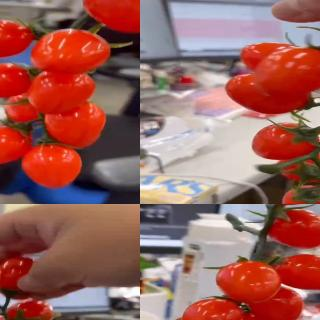tomato: (226, 74, 316, 117), (31, 28, 113, 75), (252, 46, 320, 97), (45, 100, 107, 150), (28, 69, 96, 114), (20, 141, 82, 189), (216, 261, 282, 305), (250, 122, 320, 160), (265, 209, 320, 252), (239, 41, 303, 72), (82, 0, 140, 34), (249, 285, 305, 320), (272, 254, 320, 292), (275, 146, 320, 182), (0, 125, 35, 167), (181, 297, 243, 320), (0, 20, 35, 59), (0, 256, 32, 298), (0, 62, 35, 99), (4, 298, 54, 320), (281, 188, 320, 204)
